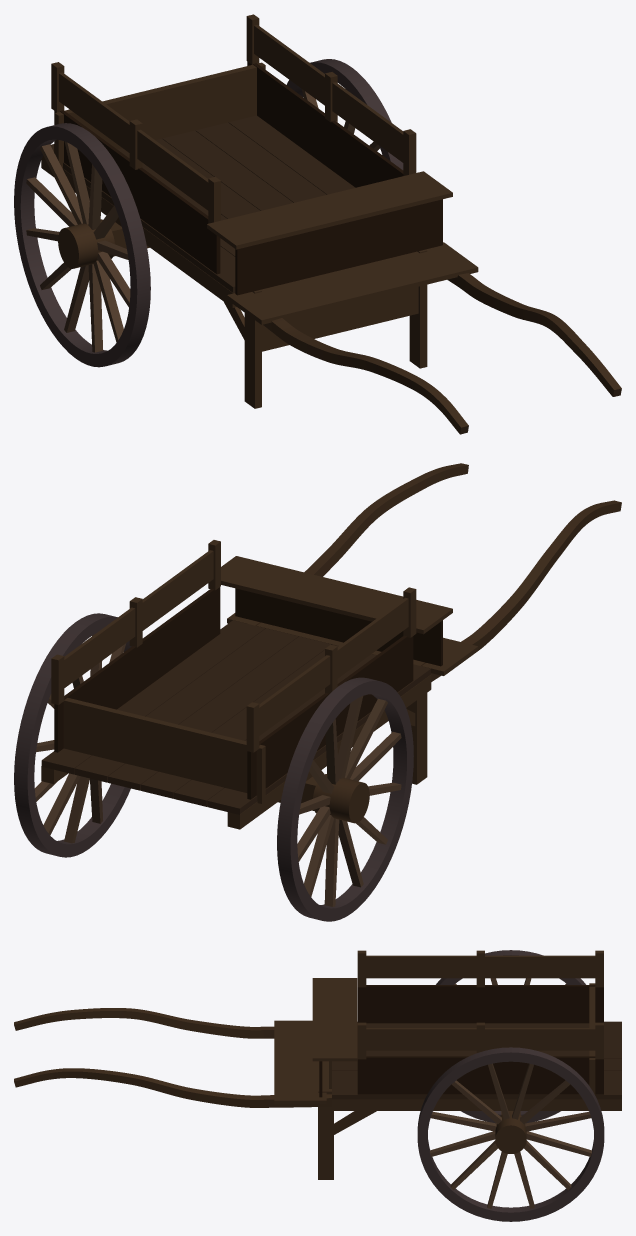
3 views of the same model, one above another, from view 1: azimuth 30°, elevation 25°; view 2: azimuth 150°, elevation 25°; view 3: azimuth 270°, elevation 25° (orthographic). The views are drawn at different scales.
Visible parts, largest first — view 1: rim, bench_panel, ledge, bench_top, end_board, enclosing_board.001, enclosing_board, rail, rail.001, front_crossbeam, shaft, floor_plank.005 (+21 smaller); view 2: rim, end_board, enclosing_board.001, rim.001, bench_top, enclosing_board, floor_plank.005, floor_plank.004, bench_panel, rail, rail.001, floor_plank.006 (+21 smaller); view 3: enclosing_board, rim.001, enclosing_board.001, rail, rail.001, bench_top, ledge, shaft.003, shaft, runner.002, floor_plank.006, floor_plank.001 (+16 smaller).
Part boxes in pixels (x1,y1,x2,y2): rim: [14, 123, 150, 367]; bench_panel: [235, 199, 442, 295]; ledge: [227, 242, 478, 324]; bench_top: [207, 171, 452, 249]; end_board: [55, 62, 265, 168]; enclosing_board.001: [247, 62, 403, 187]; enclosing_board: [54, 110, 220, 274]; rail: [59, 72, 208, 210]; rail.001: [254, 25, 403, 162]; front_crossbeam: [262, 286, 418, 351]; shaft: [263, 318, 468, 434]; floor_plank.005: [195, 122, 326, 202]; rim: [277, 677, 413, 921]; end_board: [63, 697, 265, 803]; enclosing_board.001: [54, 587, 220, 752]; rim.001: [14, 613, 131, 857]; bench_top: [221, 556, 452, 634]; enclosing_board: [247, 635, 413, 799]; floor_plank.005: [74, 628, 298, 782]; floor_plank.004: [108, 636, 331, 790]; bench_panel: [235, 588, 442, 666]; rail: [259, 597, 408, 735]; rail.001: [64, 550, 213, 687]; floor_plank.006: [41, 620, 265, 774]; enclosing_board: [357, 985, 603, 1023]; rim.001: [417, 1047, 604, 1221]; enclosing_board.001: [357, 1056, 603, 1094]; rail: [366, 955, 595, 978]; rail.001: [366, 1028, 595, 1050]; bench_top: [312, 978, 357, 1061]; ledge: [274, 1020, 326, 1104]; shaft.003: [14, 1068, 331, 1107]; shaft: [14, 1008, 274, 1038]; runner.002: [332, 1099, 621, 1110]; floor_plank.006: [332, 1082, 621, 1099]; floor_plank.001: [357, 1021, 621, 1033].
Bounding box in the file's own units: 1.05 × 0.828 × 2.5.
